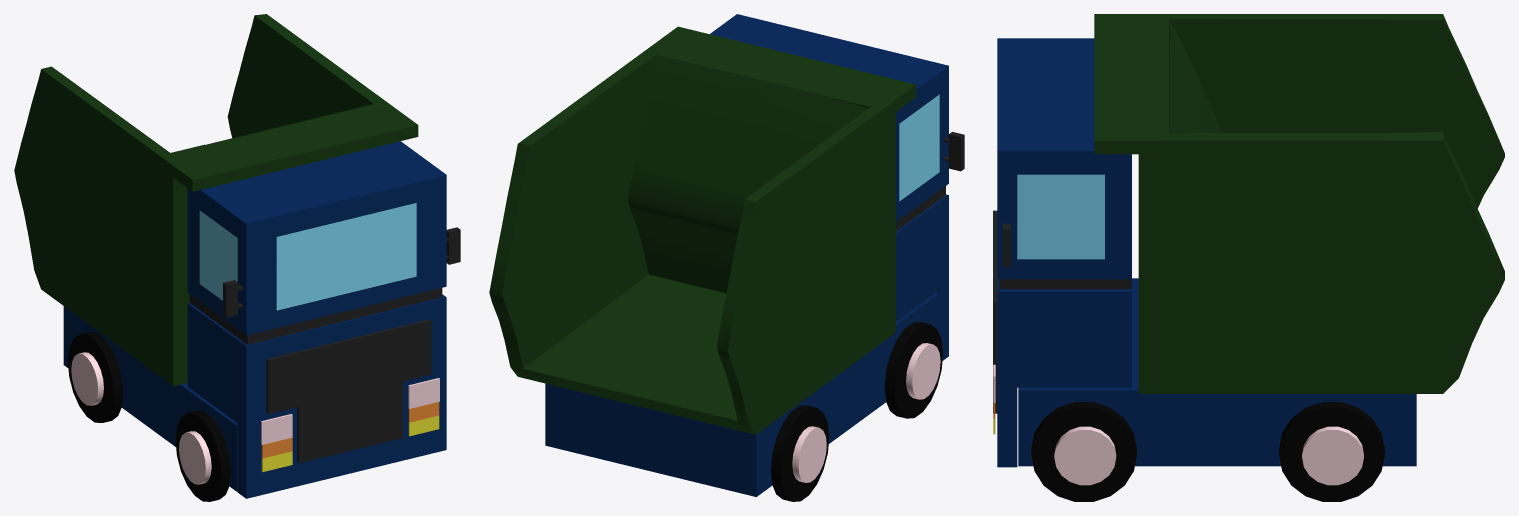
The model's file is CamionOrdinario.fbx.
3 renders of one model, left to right at view 1: azimuth 30°, elevation 25°; view 2: azimuth 150°, elevation 25°; view 3: azimuth 270°, elevation 25°, orthographic. The views are drawn at different scales.
Visible parts, largest first — view 1: Box003, Box001, Box010, Box009, Box002, Cylinder003, Cylinder001, Box008, Cylinder002, Cylinder004, Box011, Box016 (+3 smaller); view 2: Box003, Box002, Box001, Box009, Cylinder001, Cylinder003, Cylinder004, Cylinder002, Box017; view 3: Box003, Box001, Box002, Box009, Cylinder007, Cylinder005, Cylinder006, Cylinder008, Box005, Box010.
Part boxes in pixels (bbox=[...]): Box003: bbox=[14, 14, 418, 386]; Box001: bbox=[187, 141, 446, 498]; Box010: bbox=[266, 319, 431, 463]; Box009: bbox=[199, 203, 416, 310]; Box002: bbox=[63, 306, 237, 491]; Cylinder003: bbox=[175, 410, 230, 501]; Cylinder001: bbox=[68, 332, 123, 422]; Box008: bbox=[248, 288, 440, 344]; Cylinder002: bbox=[71, 352, 103, 405]; Cylinder004: bbox=[179, 431, 211, 484]; Box011: bbox=[261, 414, 292, 444]; Box016: bbox=[408, 378, 439, 408]; Box003: bbox=[489, 26, 916, 434]; Box002: bbox=[545, 292, 939, 496]; Box001: bbox=[710, 14, 948, 360]; Box009: bbox=[899, 94, 939, 201]; Cylinder001: bbox=[770, 405, 829, 501]; Cylinder003: bbox=[884, 322, 942, 418]; Cylinder004: bbox=[906, 343, 940, 399]; Cylinder002: bbox=[792, 426, 826, 482]; Box017: bbox=[943, 132, 964, 171]; Box003: bbox=[1094, 14, 1504, 393]; Box001: bbox=[997, 38, 1131, 467]; Box002: bbox=[1018, 278, 1416, 466]; Box009: bbox=[1017, 174, 1104, 259]; Cylinder007: bbox=[1031, 402, 1136, 501]; Cylinder005: bbox=[1279, 402, 1384, 501]; Cylinder006: bbox=[1302, 426, 1363, 485]; Cylinder008: bbox=[1054, 426, 1116, 485]; Box005: bbox=[999, 279, 1131, 289]; Box010: bbox=[993, 210, 997, 413].
Bounding box in the file's own units: 642 × 830 × 1054.
